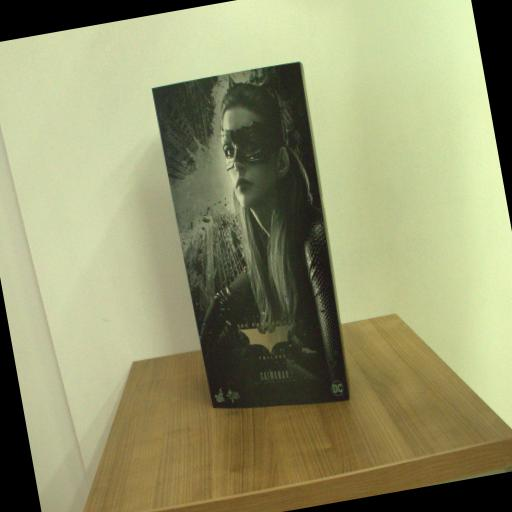catwoman: (150, 59, 362, 423)
